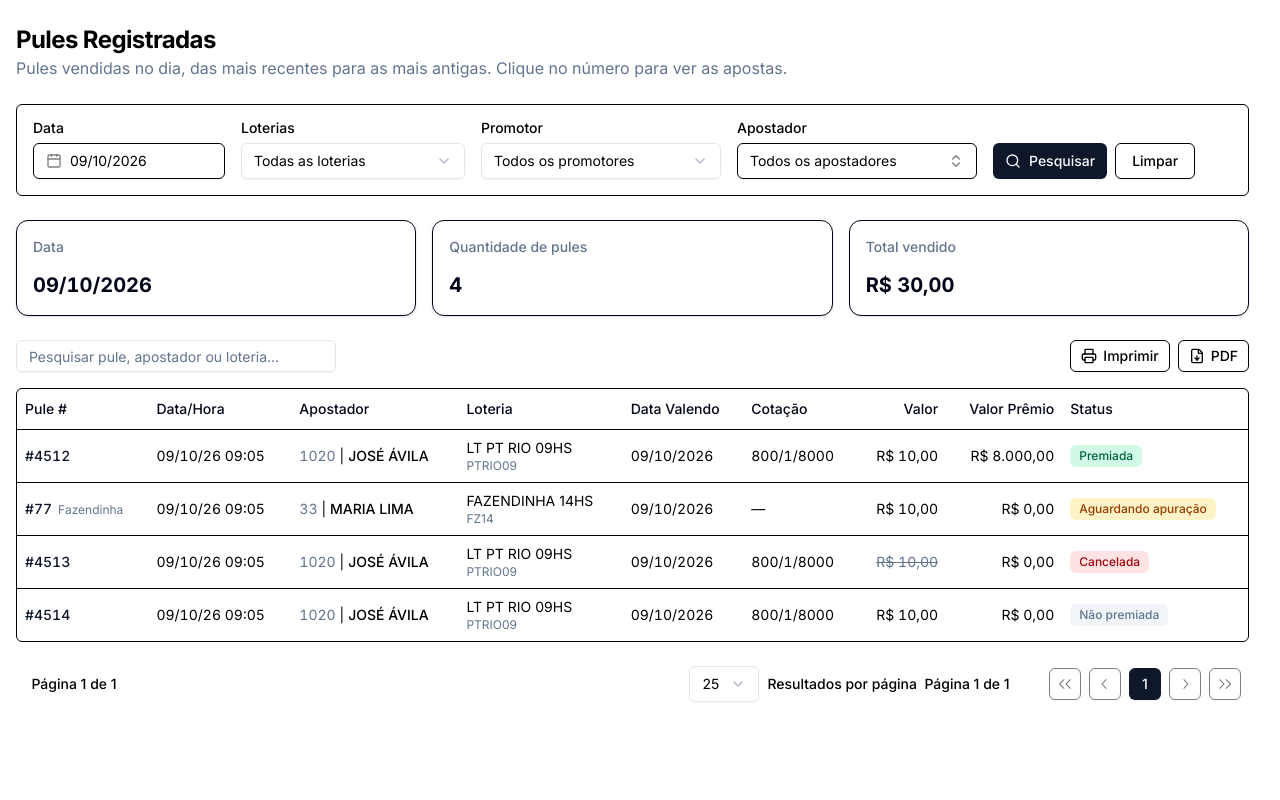
Test: Pules Registradas: tabela e resumo › pesquisa da página (pule, apostador, loteria) e atalho para buscar a pule em todas as datas
Type "maria" into the search field named "Pesquisar nesta página". click: (176, 356)
box: [16,340,336,372]
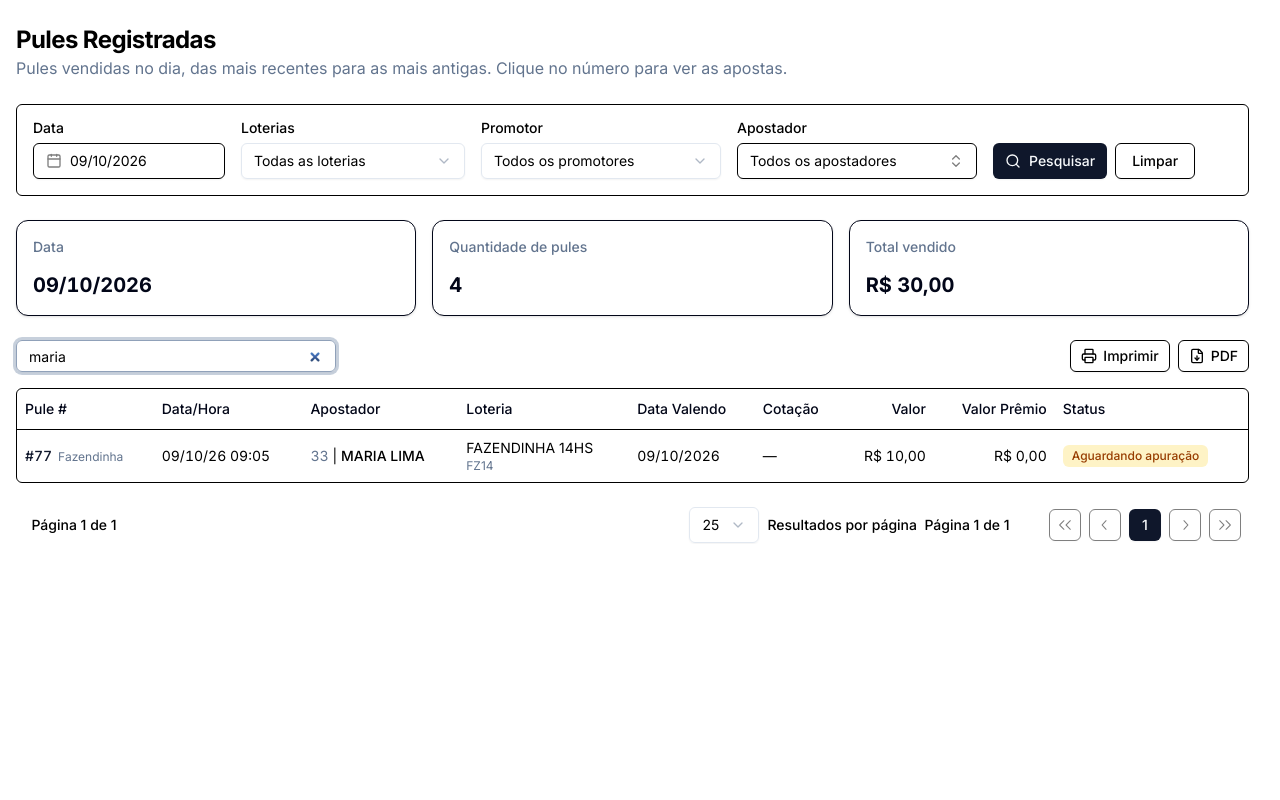
Expected: the row that starts with "Fazendinha" shows "#77", [17,429,1248,482]
Replace the text in the search field named "Pesquisar nesta página" with "fz14". click: (176, 356)
box: [16,340,336,372]
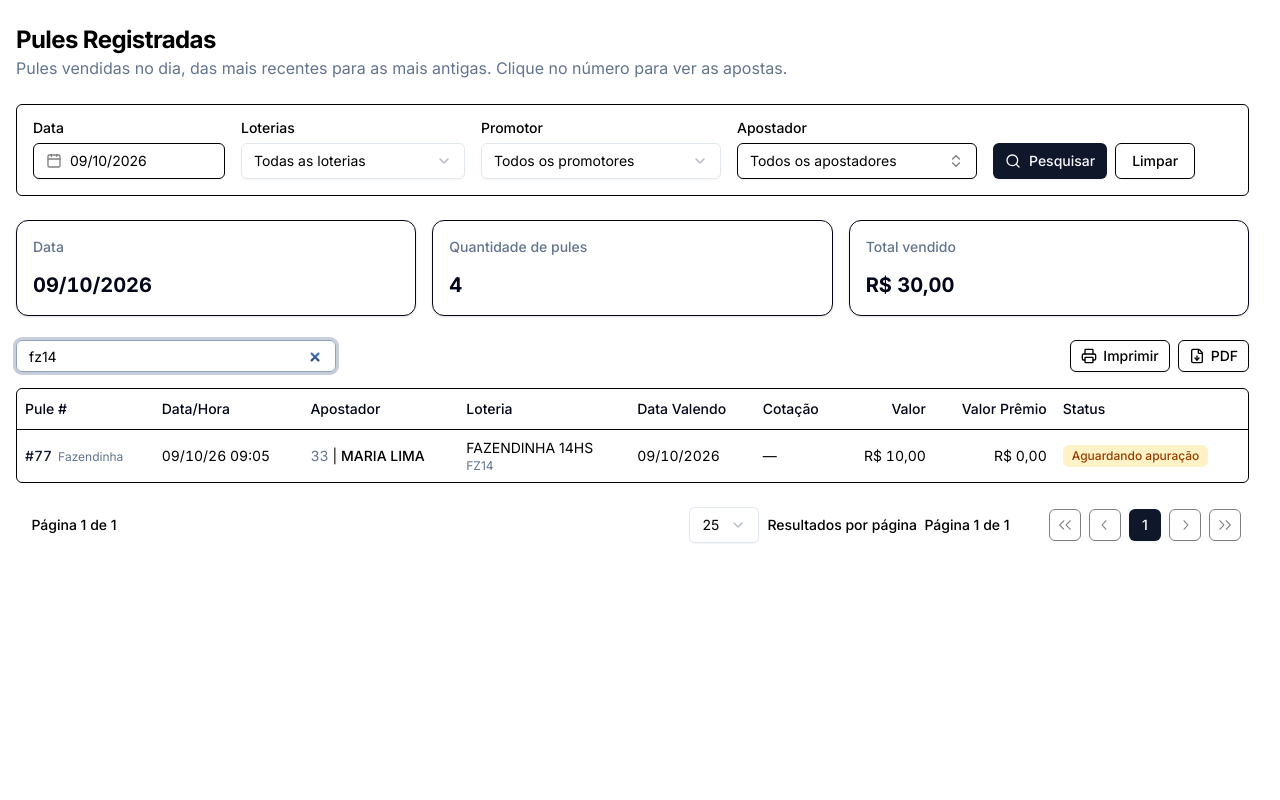
Replace the text in the search field named "Pesquisar nesta página" with "4513". click: (176, 356)
box: [16,340,336,372]
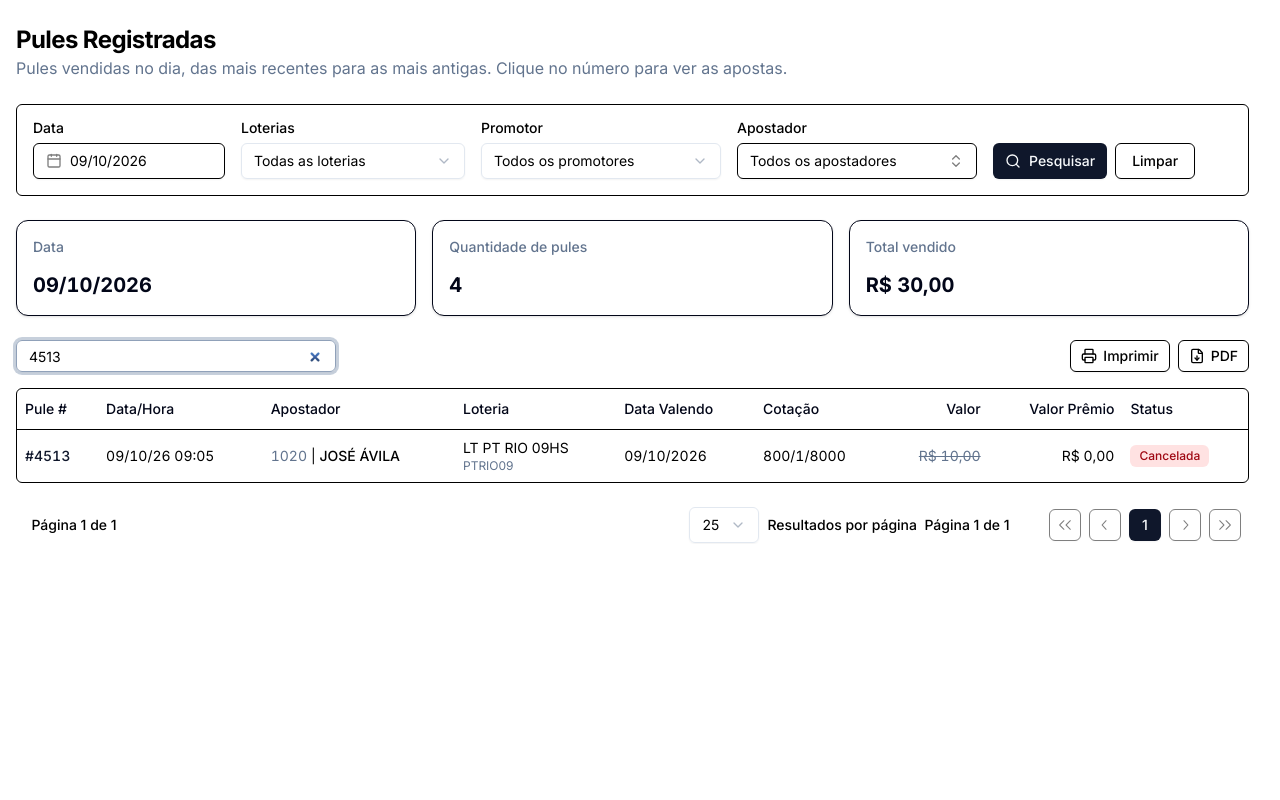
Expected: the link "em todas as datas" is not shown
Replace the text in the search field named "Pesquisar nesta página" with "999". click: (176, 356)
box: [16,340,336,372]
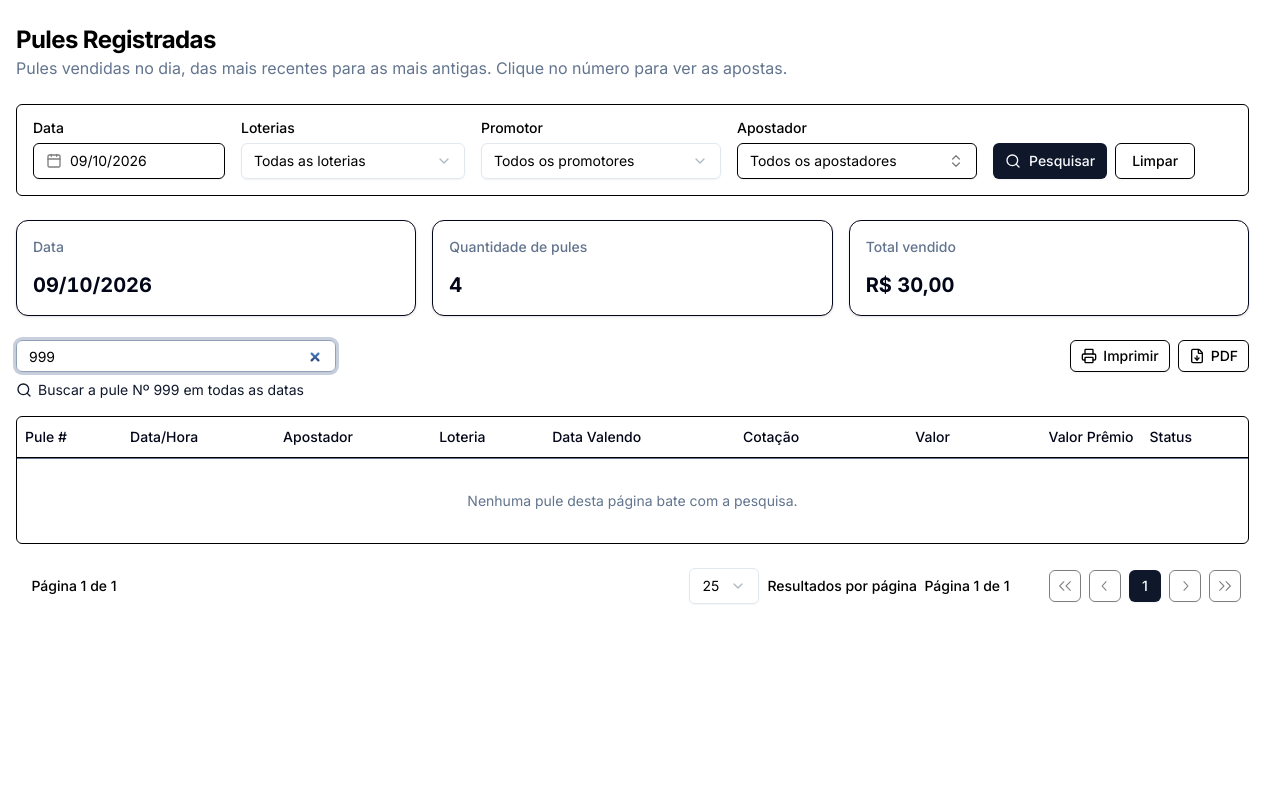
Expected: the message reads "Nenhuma pule desta página bate com a pesquisa.", [467,492,798,508]
